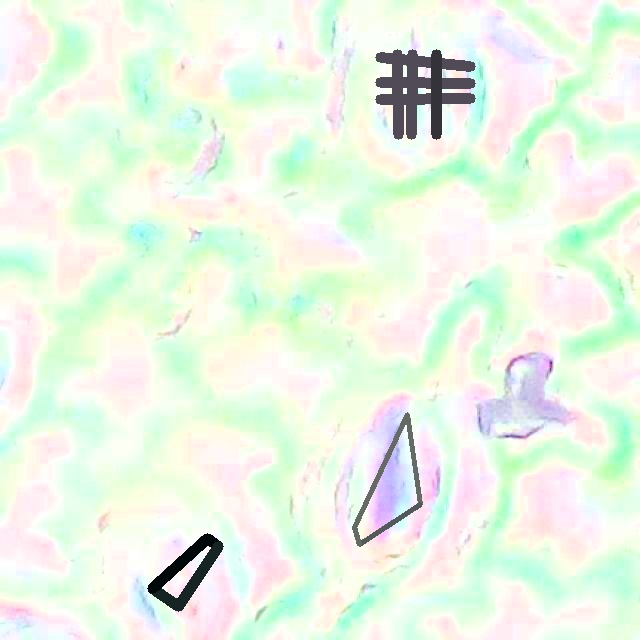close: (147, 534, 222, 611)
open: (353, 412, 421, 545), (375, 50, 475, 138)
